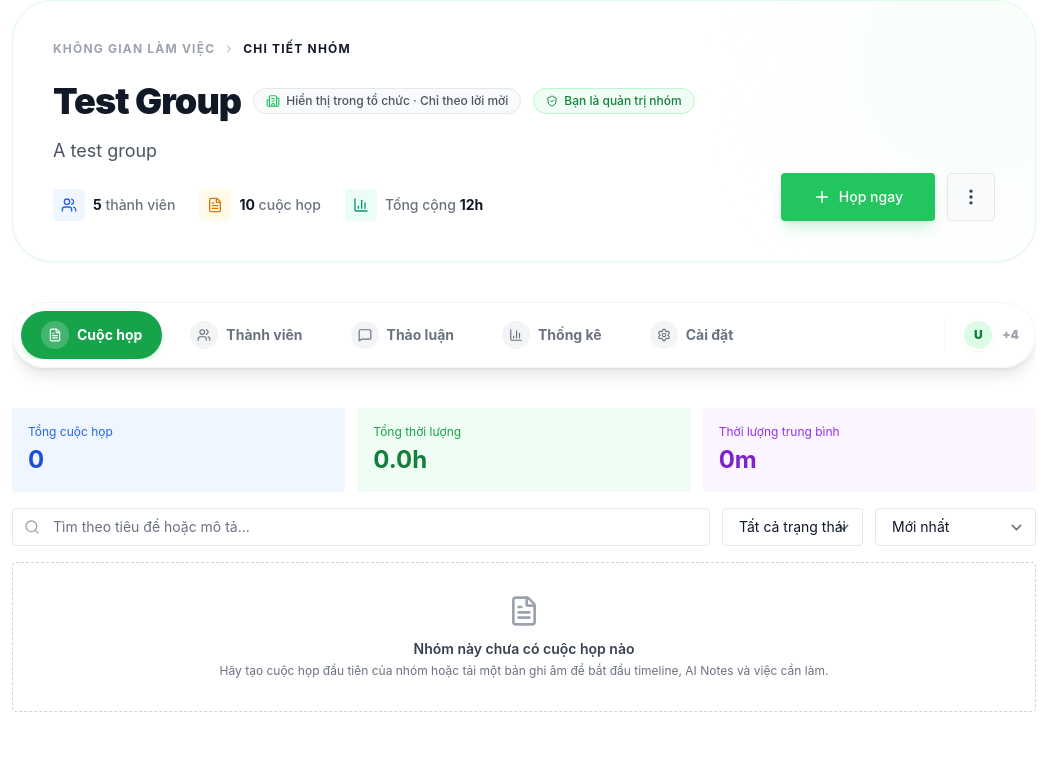
Test: GroupDetail Authorization › hiển thị nút "Mời thành viên" cho Group Admin trong Tab Thành viên
The width and height of the screenshot is (1048, 768).
Expected: the heading "Test Group" is shown, [53,81,241,121]
What coordinates should you click on to do the following:
click the button "Thành viên"
I would click on:
 (246, 335)
Its box is [170,311,322,359].
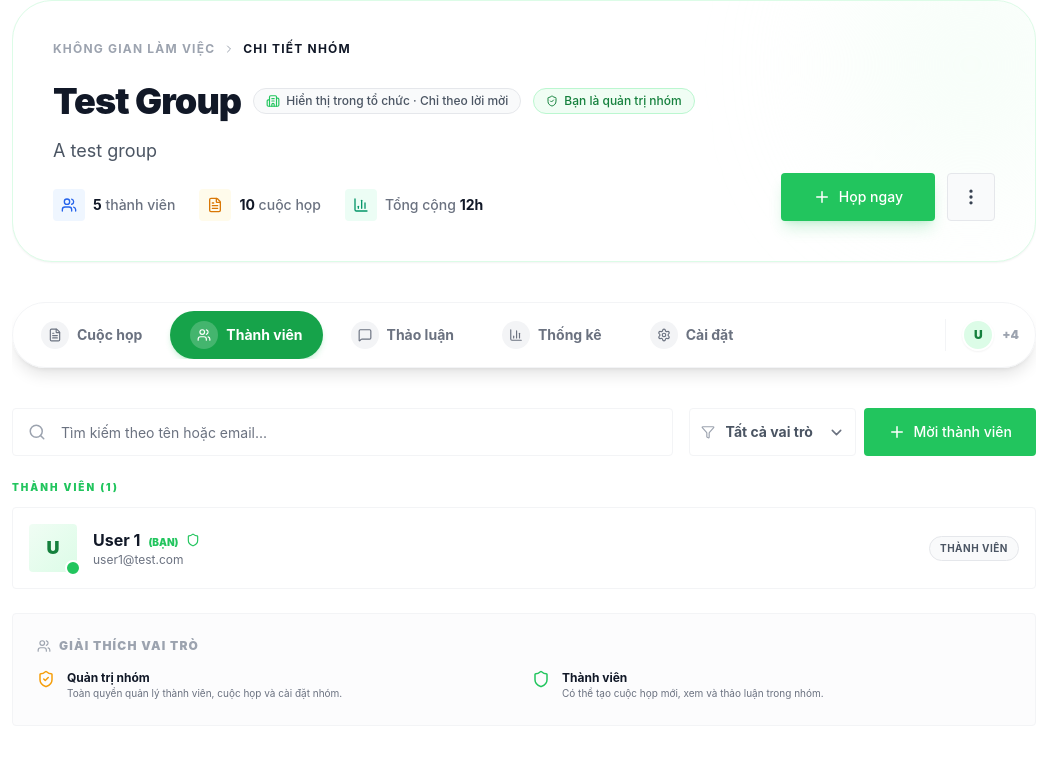
Result: the button "Mời thành viên" is shown at [864,408,1036,456]
